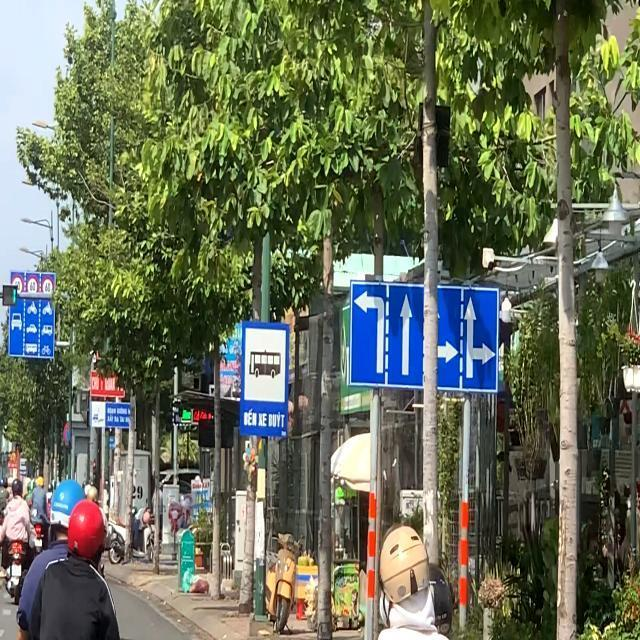127-toc-do-toi-da-60: (26, 275, 40, 298), (41, 276, 55, 298), (12, 273, 24, 296)
